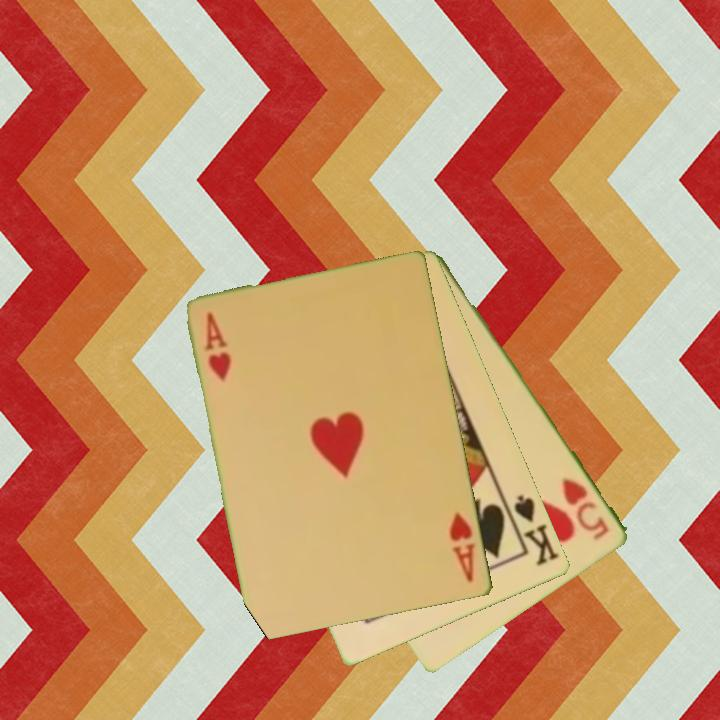5h: (559, 474, 613, 544)
Ah: (201, 308, 234, 386), (446, 509, 479, 586)
Ks: (511, 491, 563, 569)
